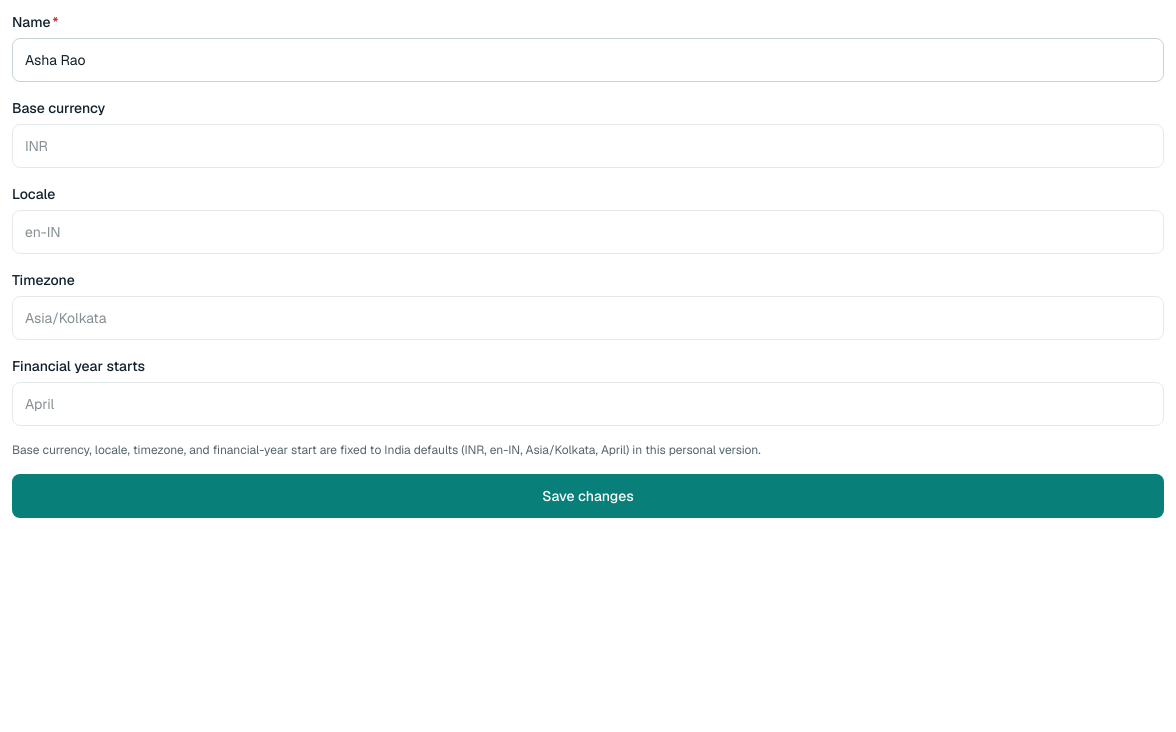
ProfileForm › shows a safe error message on failure, never a raw database error
Click the button "Save changes" at x=588, y=496, box [12,474,1164,518]
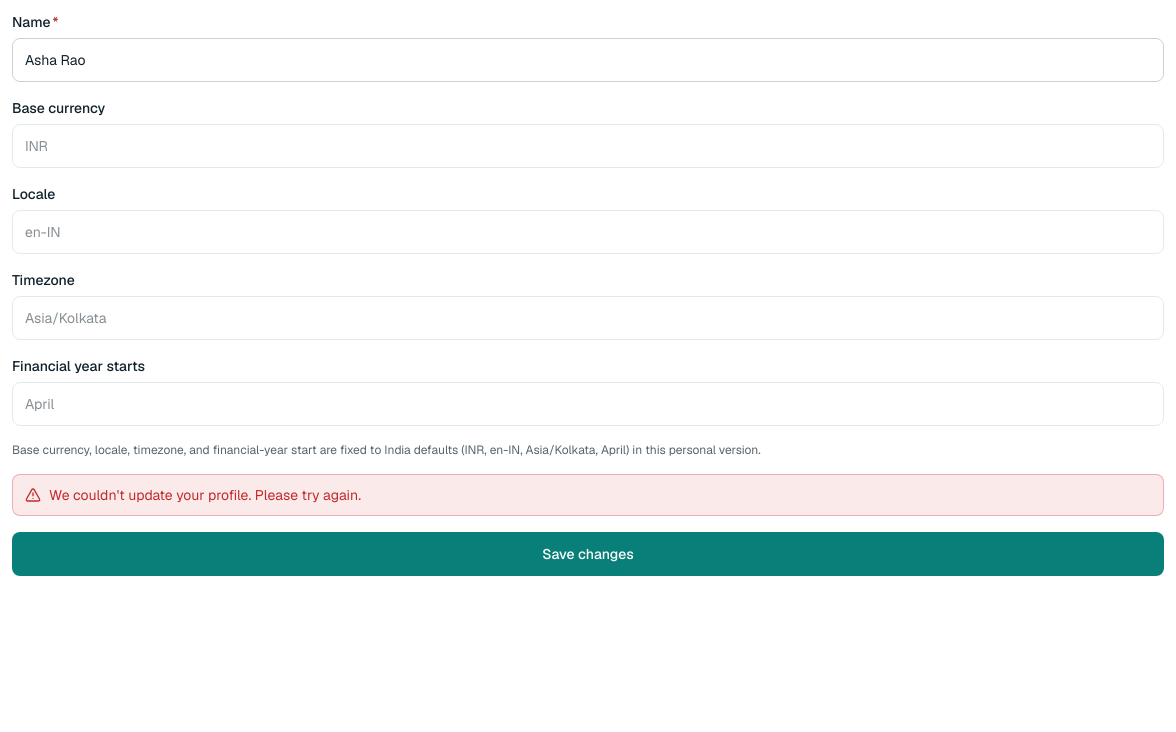
Result: the message reads "We couldn't update your profile. Please try again." at [49,486,361,504]
